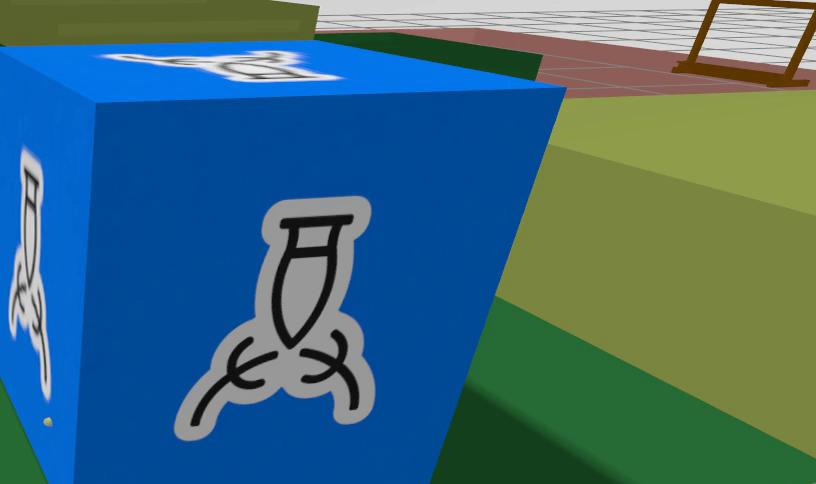KFS_REAL: (0, 41, 563, 484), (173, 198, 375, 440), (8, 147, 50, 401), (100, 51, 341, 82)
